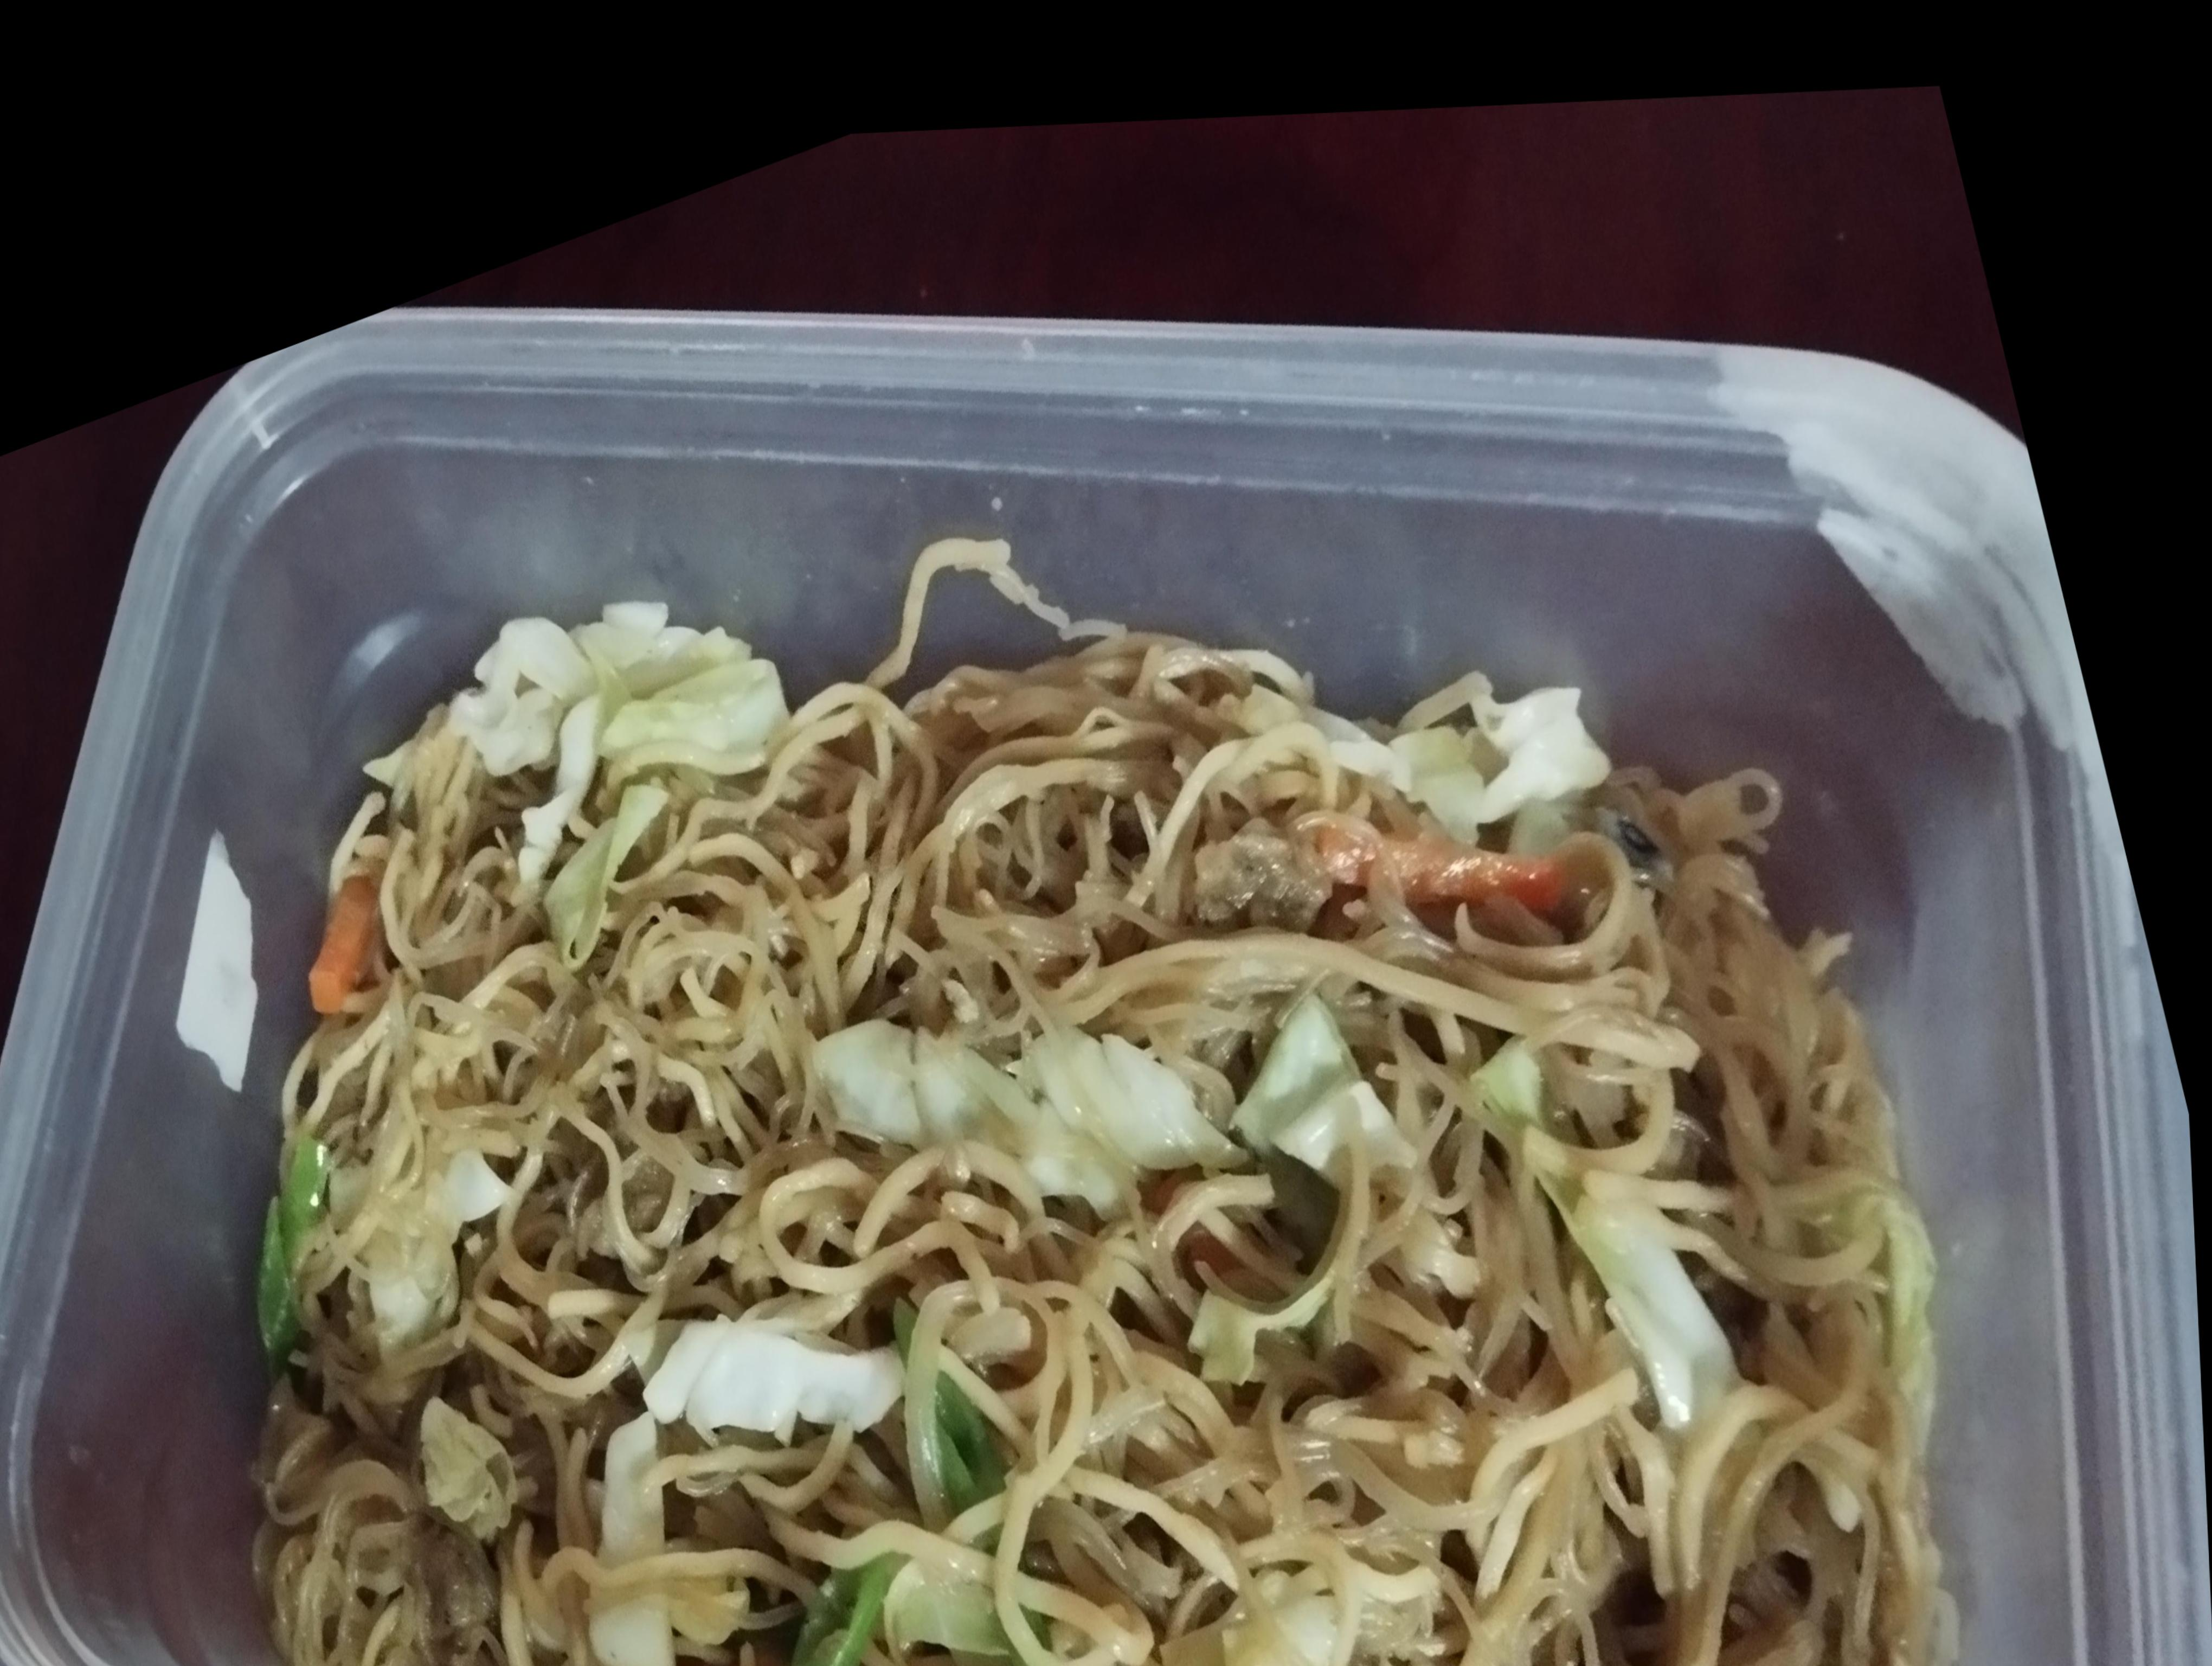pancit bihon: (271, 641, 1944, 1659)
